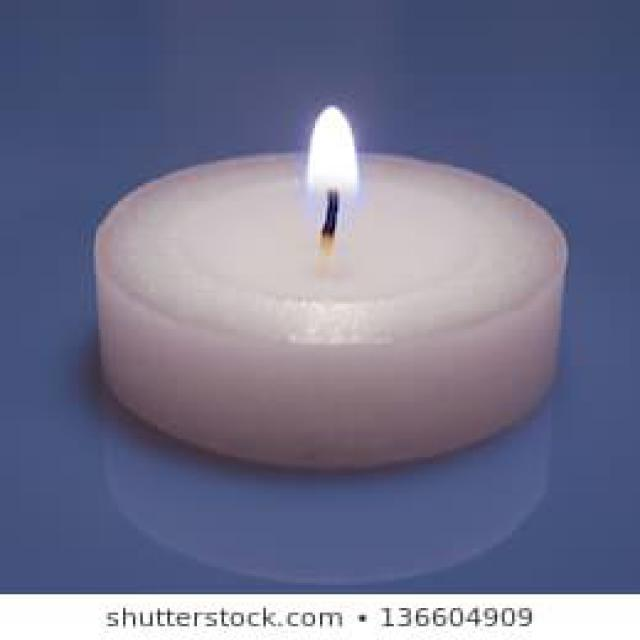Fire: (308, 106, 360, 214)
